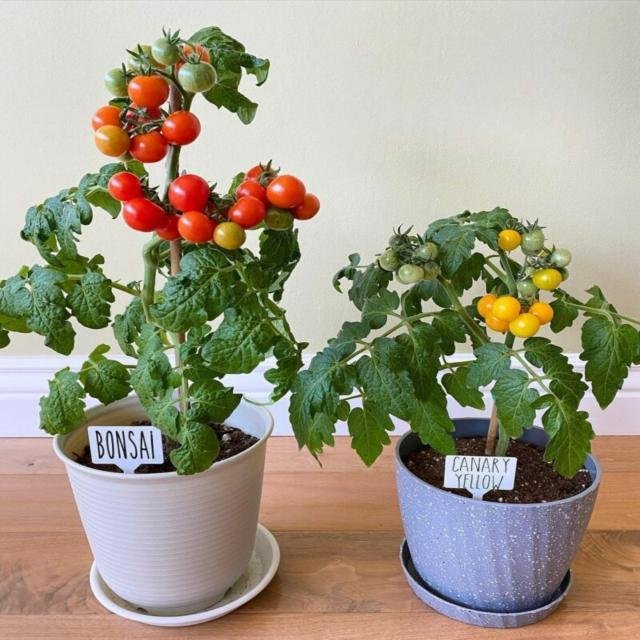plant: (0, 25, 640, 476)
